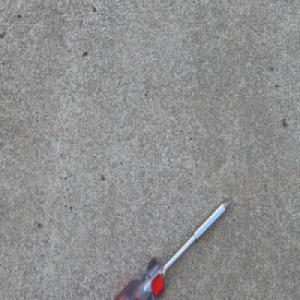Screwdriver: (110, 195, 233, 300)
